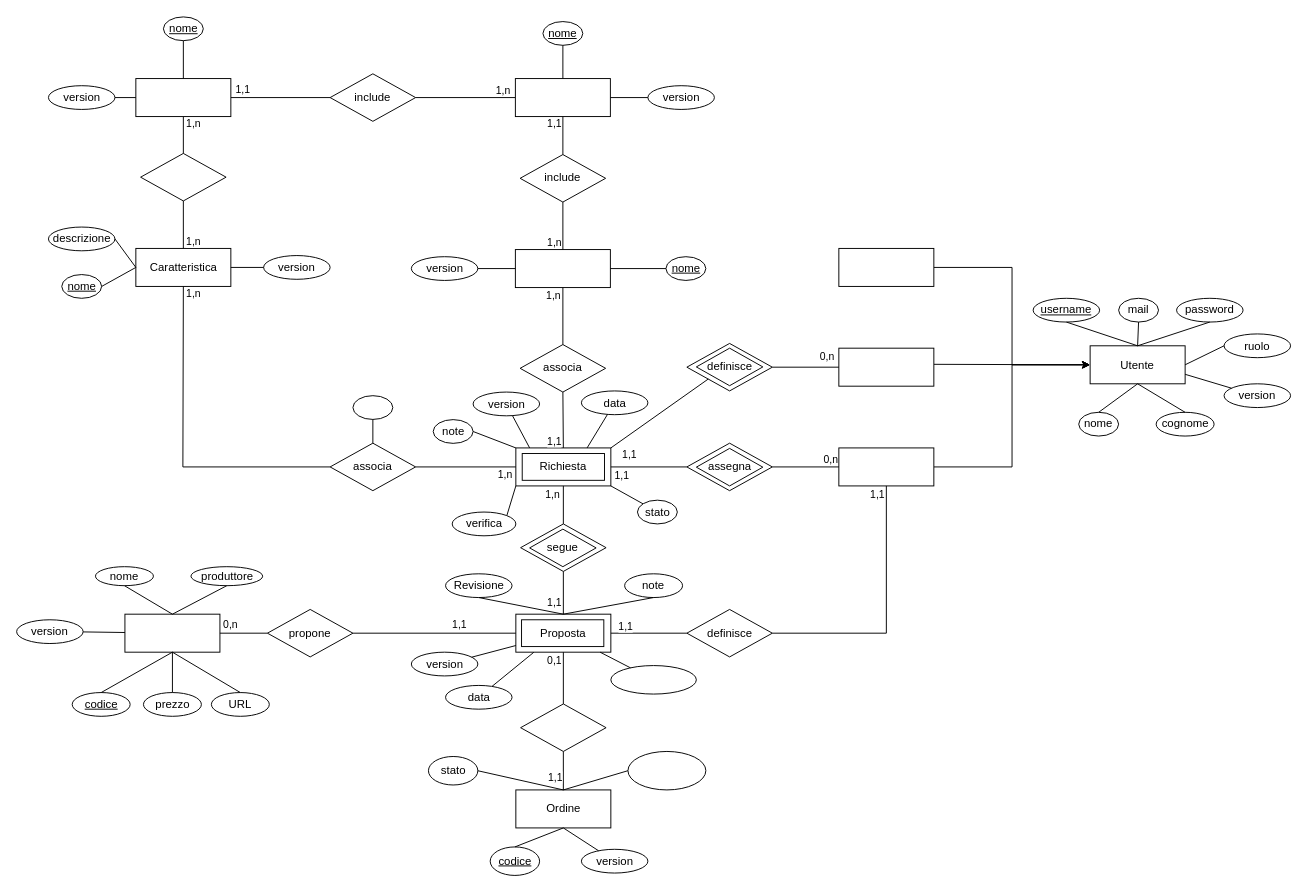
Image size: 1307x892. Some labels were removed from this diagram. The box of each missing label's shape, as (x1, y1, x2, y2) in pixels:
Amministratore: (838, 247, 934, 286)
Categoria: (514, 249, 610, 288)
contiene: (140, 152, 226, 201)
data di consegna: (627, 750, 706, 790)
diventa: (520, 703, 606, 751)
Micro-Categoria: (135, 78, 231, 117)
Ordinante: (838, 347, 934, 386)
Prodotto: (124, 613, 220, 652)
rev_motivazione: (610, 665, 696, 694)
Sotto-Categoria: (514, 78, 610, 117)
Tecnico: (838, 447, 934, 486)
valore: (352, 395, 393, 419)
